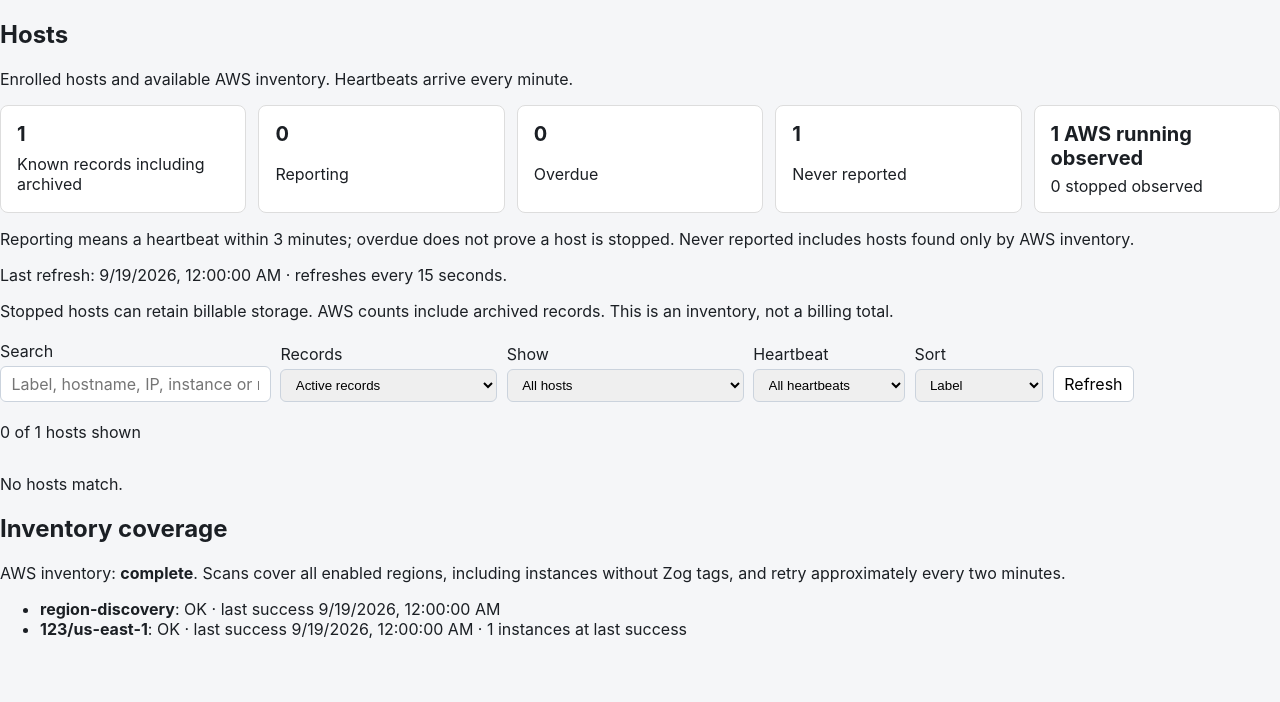
Test: archived records remain in AWS counts and have an explicit list filter
Check: the text "1 AWS running observed" is shown, box top-left (1051, 122), bottom-right (1192, 170)
Check: the text "Compiler" is not shown
Select "Archived records" in the dropdown labelled "Records": {"x": 389, "y": 386} top-left (280, 369), bottom-right (497, 402)
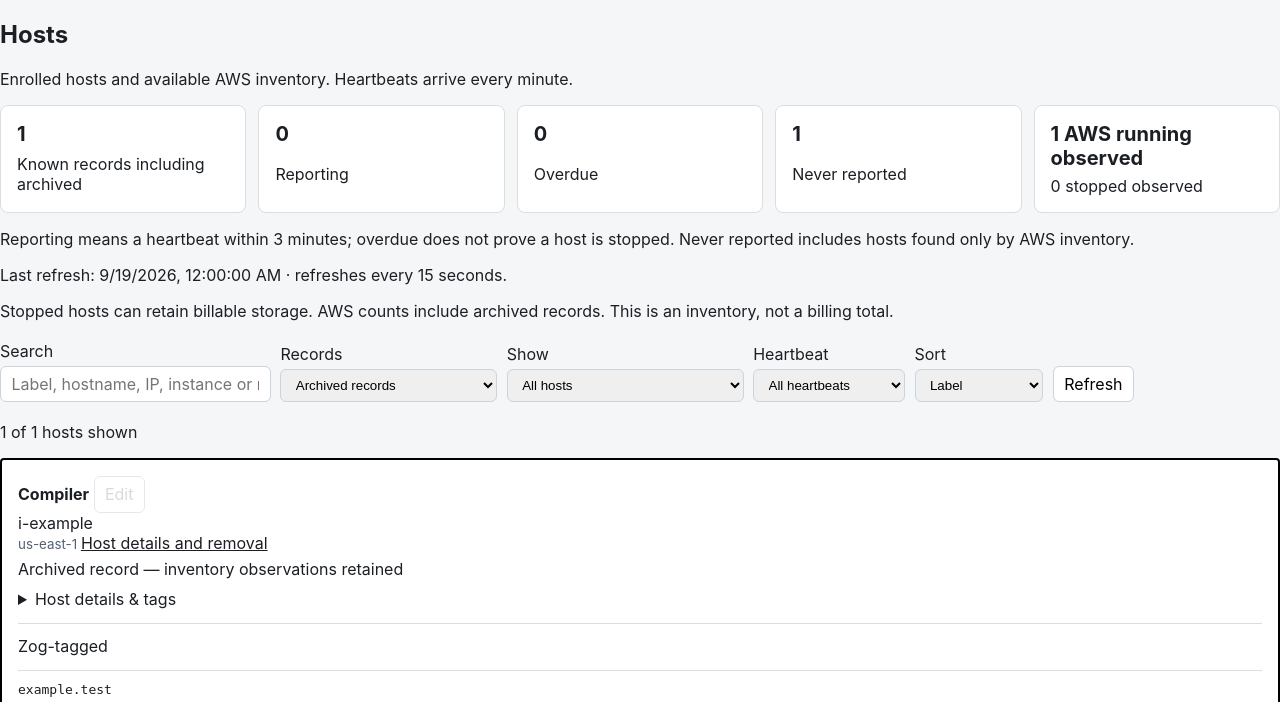
Check: the text "Compiler" is shown, box top-left (18, 484), bottom-right (89, 504)
